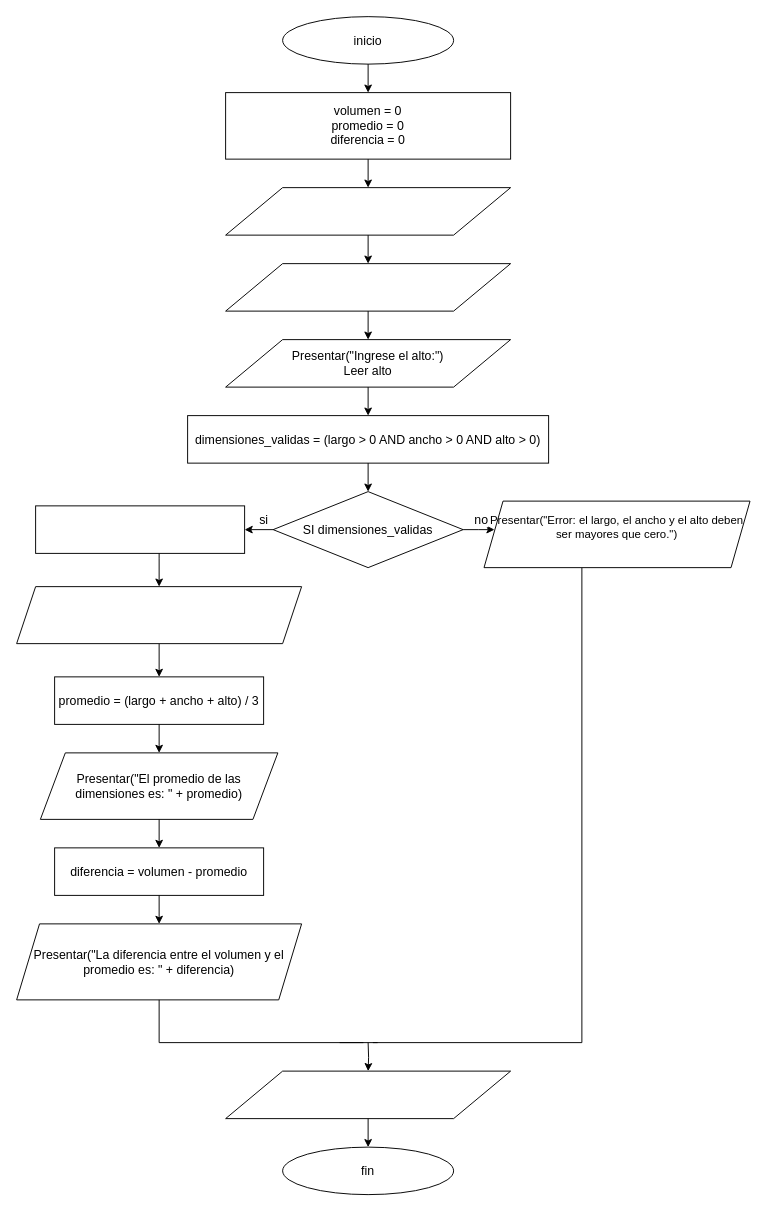
Some shapes in this 767 by 1211 pixel diagram are drawn without their labels. The shapes that lost their labels are listed below. From the top down, each one's centre as x and y in pixels, then its label:
point 368,211: Presentar("Ingrese el largo:") Leer largo
point 368,287: Presentar("Ingrese el ancho:") Leer ancho
point 140,529: volumen = largo * ancho * alto
point 159,615: Presentar("El volumen del prisma es: " + volumen)
point 368,1094: Presentar("Fin del cálculo.")
